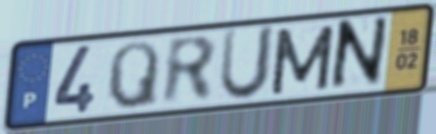4: (51, 42, 101, 117)
M: (267, 22, 338, 98)
N: (326, 12, 392, 96)
Q: (105, 39, 162, 112)
R: (160, 33, 219, 109)
U: (216, 23, 279, 104)
